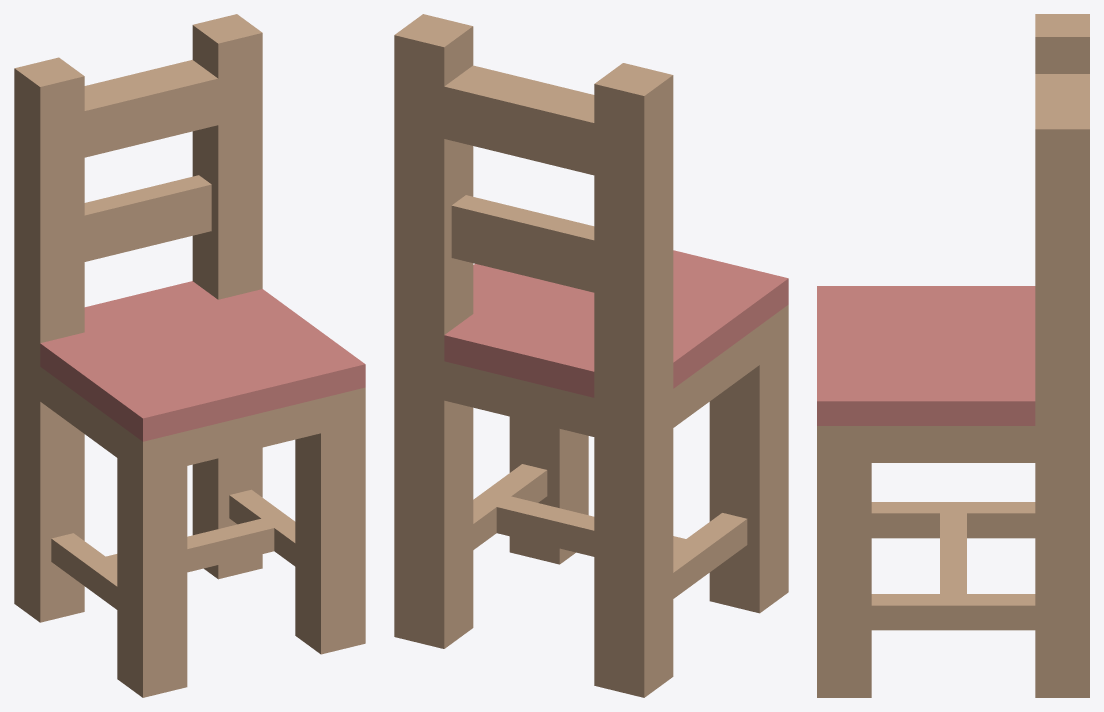
File: chairCushion.glb
3 renders of one model, left to right at view 1: azimuth 30°, elevation 25°; view 2: azimuth 150°, elevation 25°; view 3: azimuth 270°, elevation 25°, orthographic. The views are drawn at different scales.
Parts seen in each view (by area): view 1: chairCushion; view 2: chairCushion; view 3: chairCushion.
Part boxes in pixels (x1,y1,x2,y2): chairCushion: (14,14,365,697); chairCushion: (394,14,788,697); chairCushion: (817,14,1089,697).
Bounding box in the file's own units: 0.2 × 0.46 × 0.2.
